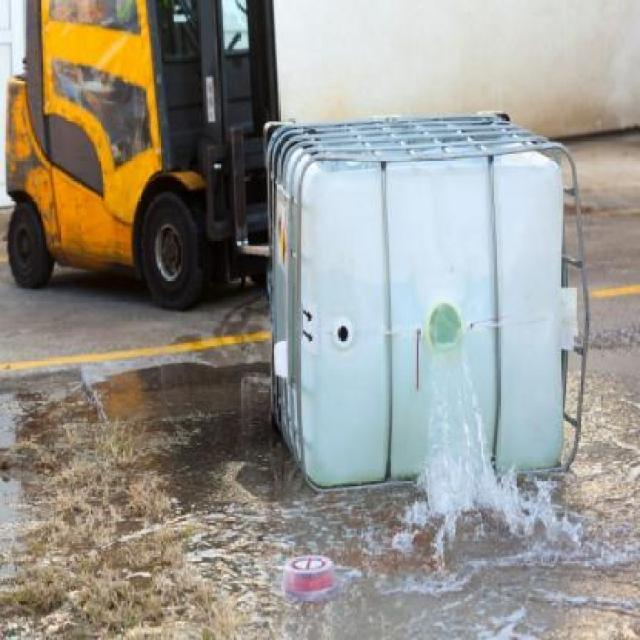spillage: (0, 305, 640, 640)
